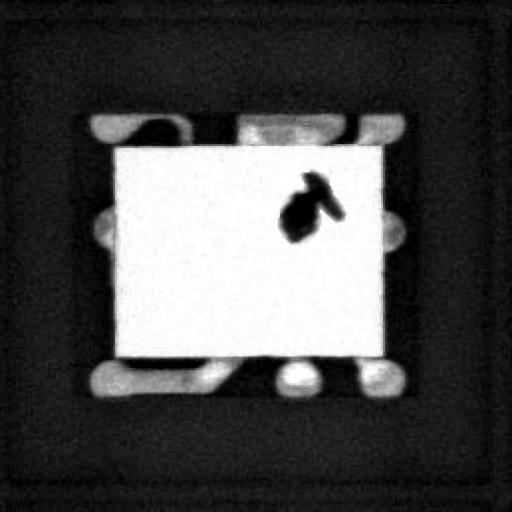DIE_INK: (264, 175, 328, 254)
